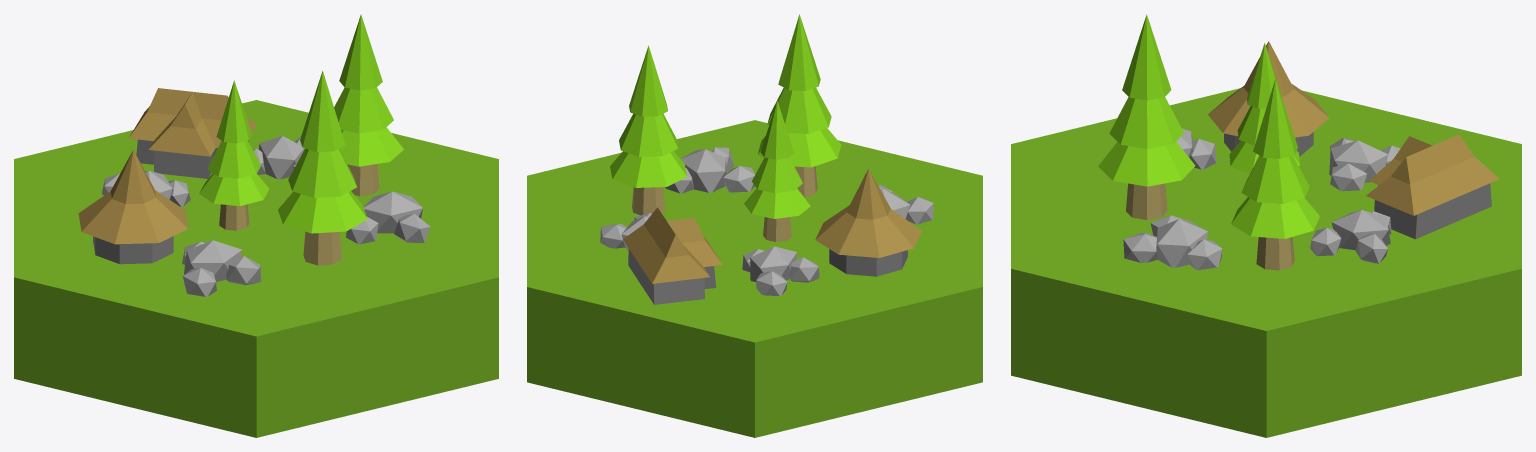
File: Casas_Pinos_Rocas_2.fbx
3 renders of one model, left to right at view 1: azimuth 30°, elevation 25°; view 2: azimuth 150°, elevation 25°; view 3: azimuth 270°, elevation 25°, orthographic. The views are drawn at different scales.
Parts seen in each view (by area): view 1: Casas_Pinos_Rocas_2; view 2: Casas_Pinos_Rocas_2; view 3: Casas_Pinos_Rocas_2.
Part boxes in pixels (box(x1,y1,x2,y2)): Casas_Pinos_Rocas_2: box(14, 14, 498, 437); Casas_Pinos_Rocas_2: box(527, 14, 982, 437); Casas_Pinos_Rocas_2: box(1011, 14, 1521, 437).
Bounding box in the file's own units: 200 × 114 × 173.
